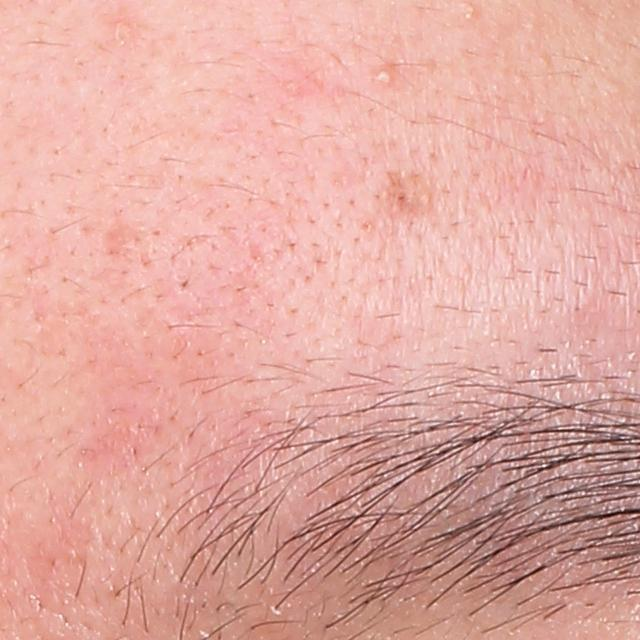pustule: (371, 63, 402, 89)
